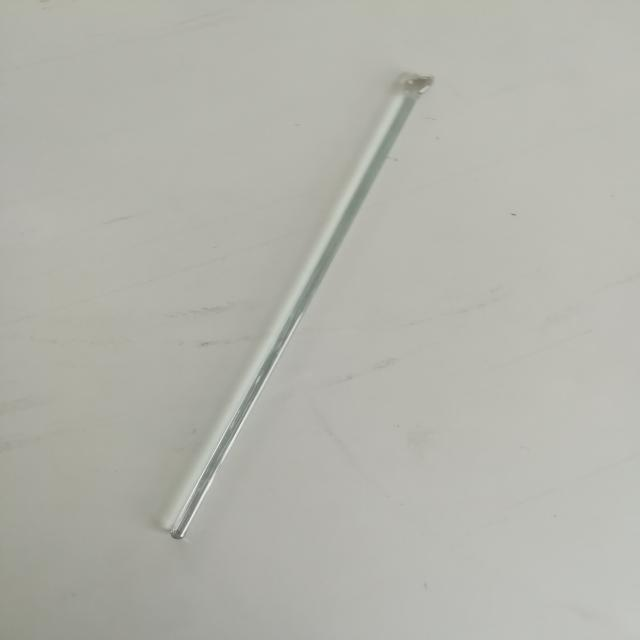Glass_Rod: (123, 34, 469, 584)
